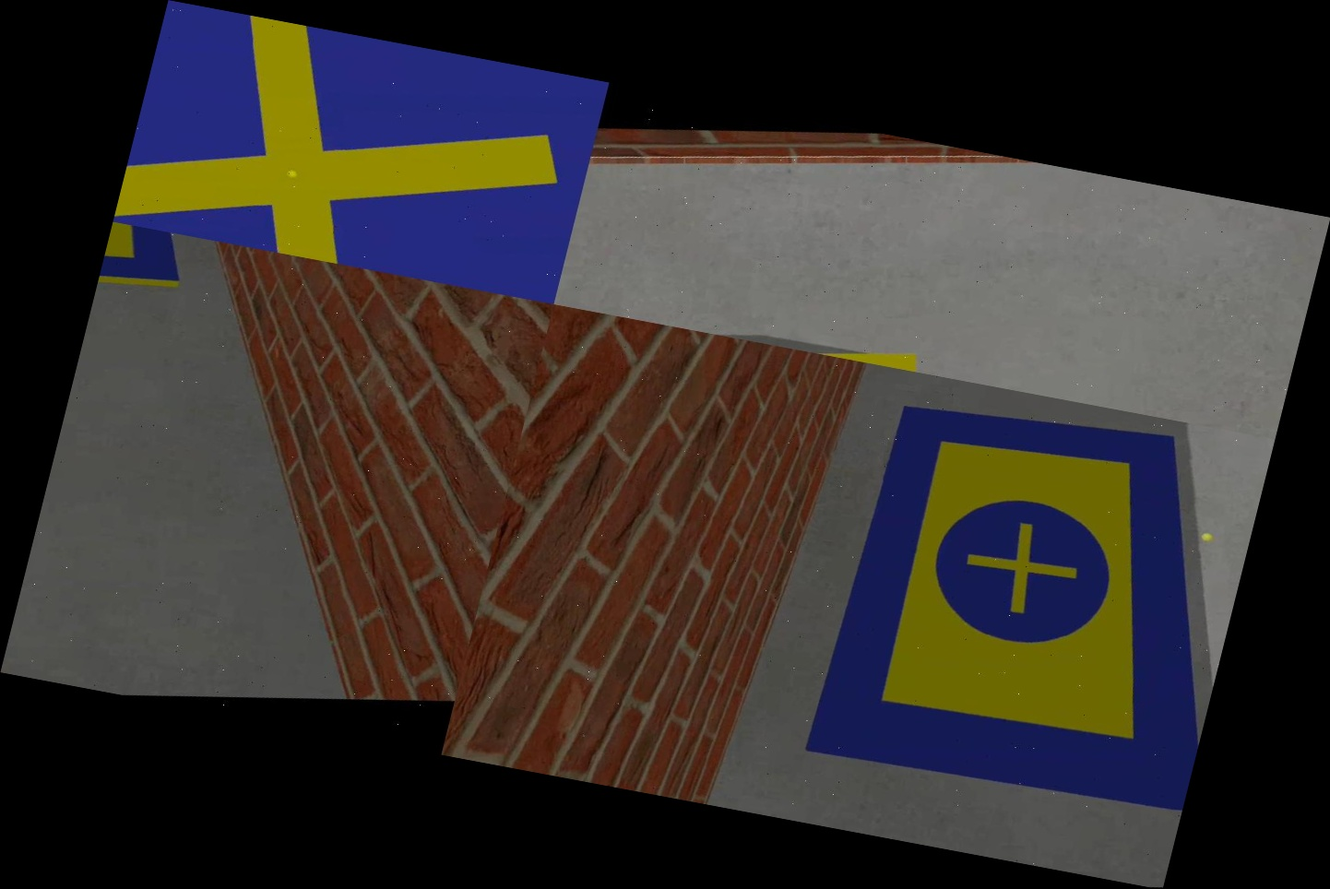large_base: (717, 355, 1274, 875)
small_base: (113, 0, 609, 304)
